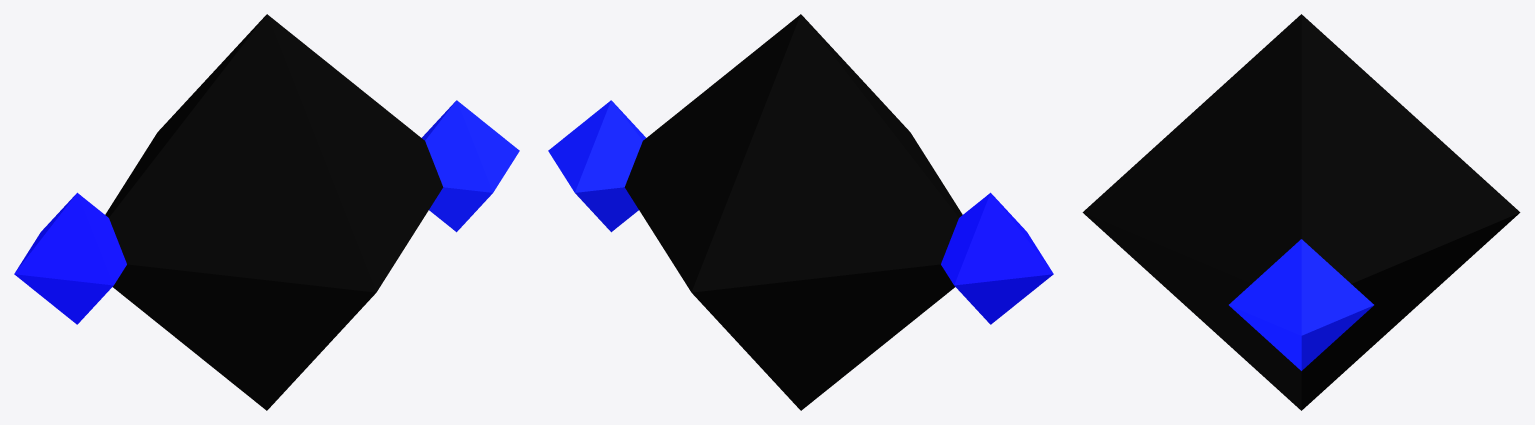
File: snivelblack.glb
3 renders of one model, left to right at view 1: azimuth 30°, elevation 25°; view 2: azimuth 150°, elevation 25°; view 3: azimuth 270°, elevation 25°, orthographic.
Parts seen in each view (by area): view 1: Octahedron, Octahedron_2, Octahedron_1; view 2: Octahedron, Octahedron_2, Octahedron_1; view 3: Octahedron, Octahedron_1.
Part boxes in pixels (box(x1,y1,x2,y2)): Octahedron: box(105, 14, 443, 410); Octahedron_2: box(14, 192, 126, 324); Octahedron_1: box(422, 100, 519, 232); Octahedron: box(624, 14, 962, 410); Octahedron_2: box(941, 192, 1053, 324); Octahedron_1: box(548, 100, 645, 232); Octahedron: box(1082, 14, 1520, 410); Octahedron_1: box(1229, 239, 1373, 370).
Bounding box in the file's own units: 1.6 × 1.2 × 1.2.
